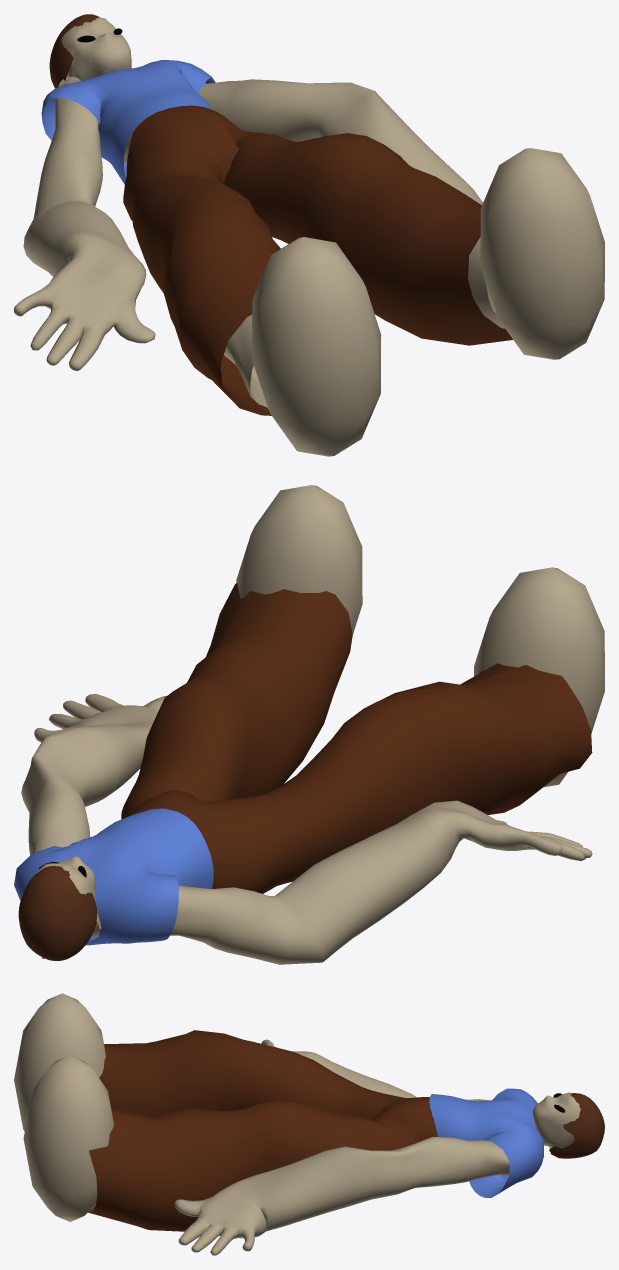
The model's file is kid.glb.
The picture shows the model from 3 angles, top to bottom: view 1: azimuth 30°, elevation 25°; view 2: azimuth 150°, elevation 25°; view 3: azimuth 270°, elevation 25°; orthographic projection. The views are drawn at different scales.
Visible parts, largest first — view 1: Cube.004; view 2: Cube.004; view 3: Cube.004.
Boxes of the visible parts, left/top/right/bottom form: Cube.004: left=14, top=14, right=604, bottom=456; Cube.004: left=14, top=485, right=604, bottom=964; Cube.004: left=14, top=993, right=604, bottom=1255.
Bounding box in the file's own units: 2.17 × 0.9695 × 2.8.
